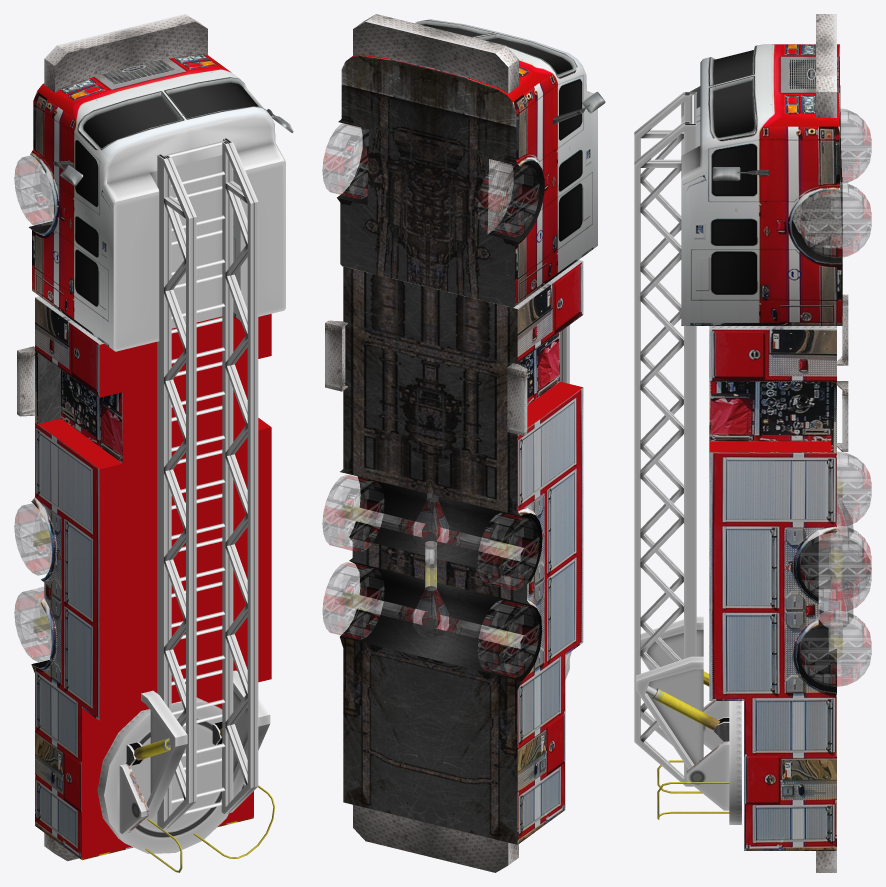
Rendered from fire_truck.glb.
3 views of the same model, side by side, from view 1: azimuth 30°, elevation 25°; view 2: azimuth 150°, elevation 25°; view 3: azimuth 270°, elevation 25° (orthographic). The views are drawn at different scales.
Visible parts, largest first — view 1: fire_truck; view 2: fire_truck; view 3: fire_truck.
Part boxes in pixels (x1=…): fire_truck: x1=14, y1=14, x2=293, y2=872; fire_truck: x1=322, y1=14, x2=605, y2=872; fire_truck: x1=634, y1=14, x2=871, y2=872.
Bounding box in the file's own units: 35.46 × 124 × 33.55.
3 materials, 3 textured.
